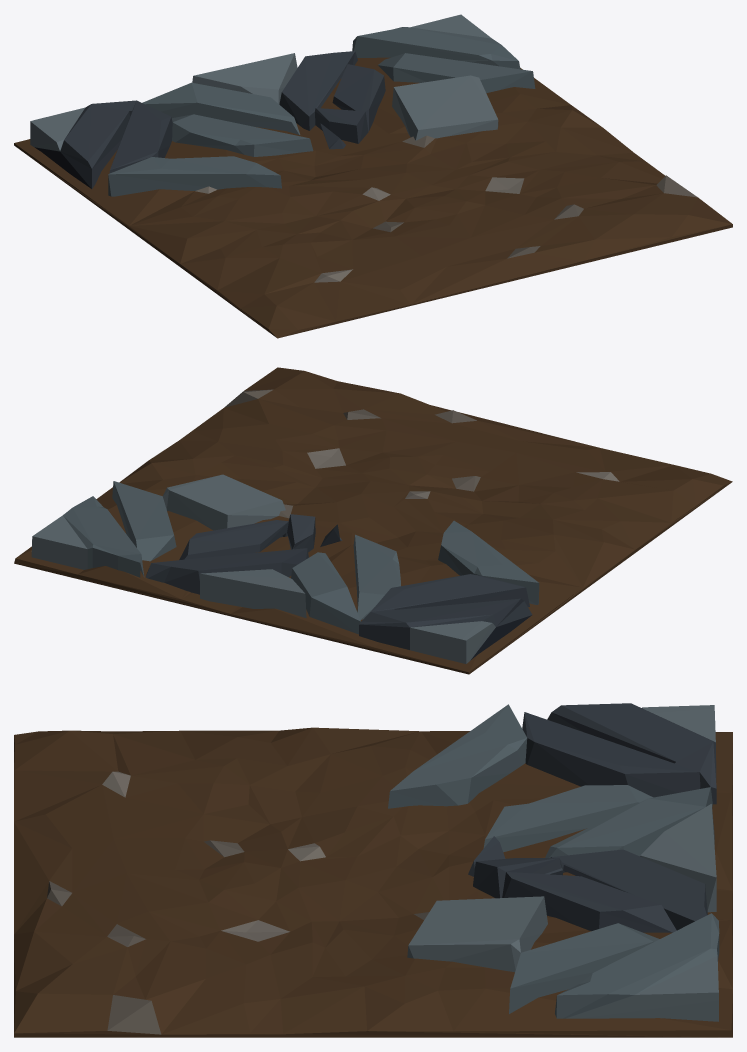
The model's file is MDungeon_FloorTiles_Broken_02.FBX.
3 renders of one model, top to bottom at view 1: azimuth 30°, elevation 25°; view 2: azimuth 150°, elevation 25°; view 3: azimuth 270°, elevation 25°, orthographic. The views are drawn at different scales.
Visible parts, largest first — view 1: MDungeon_FloorTiles_Broken_02_LOD0; view 2: MDungeon_FloorTiles_Broken_02_LOD0; view 3: MDungeon_FloorTiles_Broken_02_LOD0.
Boxes of the visible parts, x1,y1,x2,y2 form: MDungeon_FloorTiles_Broken_02_LOD0: (14, 14, 732, 338); MDungeon_FloorTiles_Broken_02_LOD0: (14, 367, 732, 674); MDungeon_FloorTiles_Broken_02_LOD0: (14, 703, 732, 1037).
Size of what is drawn, in the model's own units: 6.27 by 0.4591 by 6.29.
